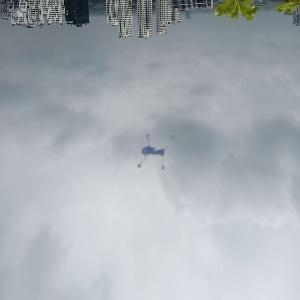drone: (123, 114, 191, 182)
